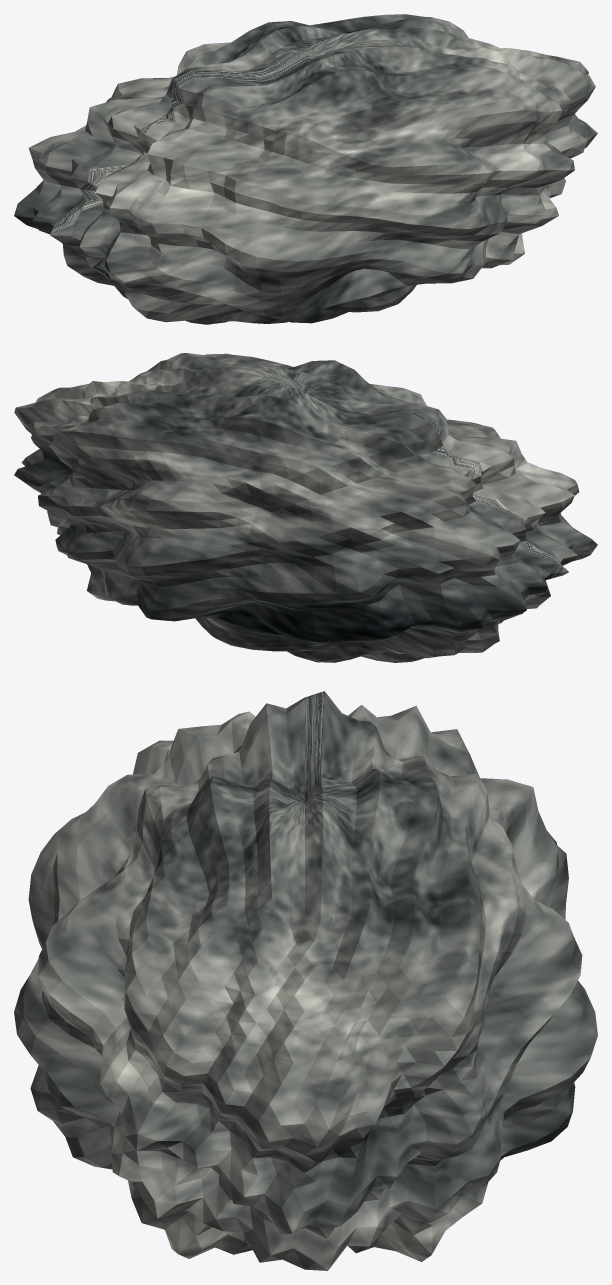
The model's file is large_04.glb.
3 renders of one model, top to bottom at view 1: azimuth 30°, elevation 25°; view 2: azimuth 150°, elevation 25°; view 3: azimuth 270°, elevation 25°, orthographic. The views are drawn at different scales.
Visible parts, largest first — view 1: rock; view 2: rock; view 3: rock.
Boxes of the visible parts, bbox=[...] form: rock: bbox=[14, 14, 597, 324]; rock: bbox=[14, 353, 597, 662]; rock: bbox=[14, 691, 597, 1270].
Size of the model in its own units: 9.45 by 4.29 by 5.65.
1 material, 1 textured.
